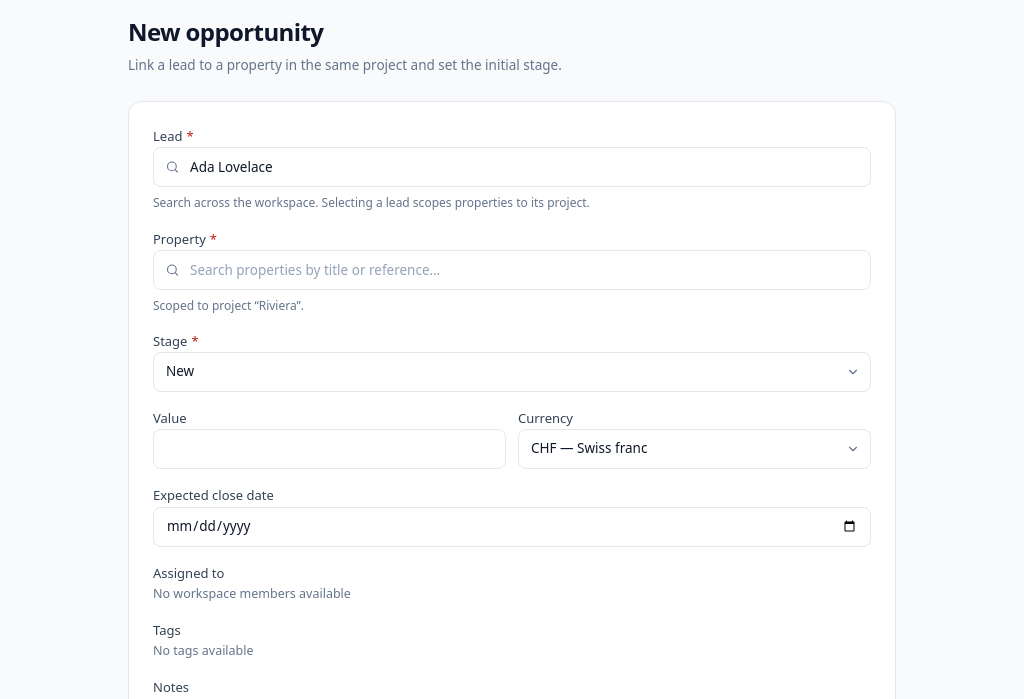
Test: OpportunityFormPage › hydrates locked lead context and scopes property search to the same project
Expected: the dropdown showing "Ada Lovelace" is shown, x1=153 y1=147 x2=871 y2=187
Click the dropdown labelled "Property": click(512, 270) x1=153 y1=250 x2=871 y2=290
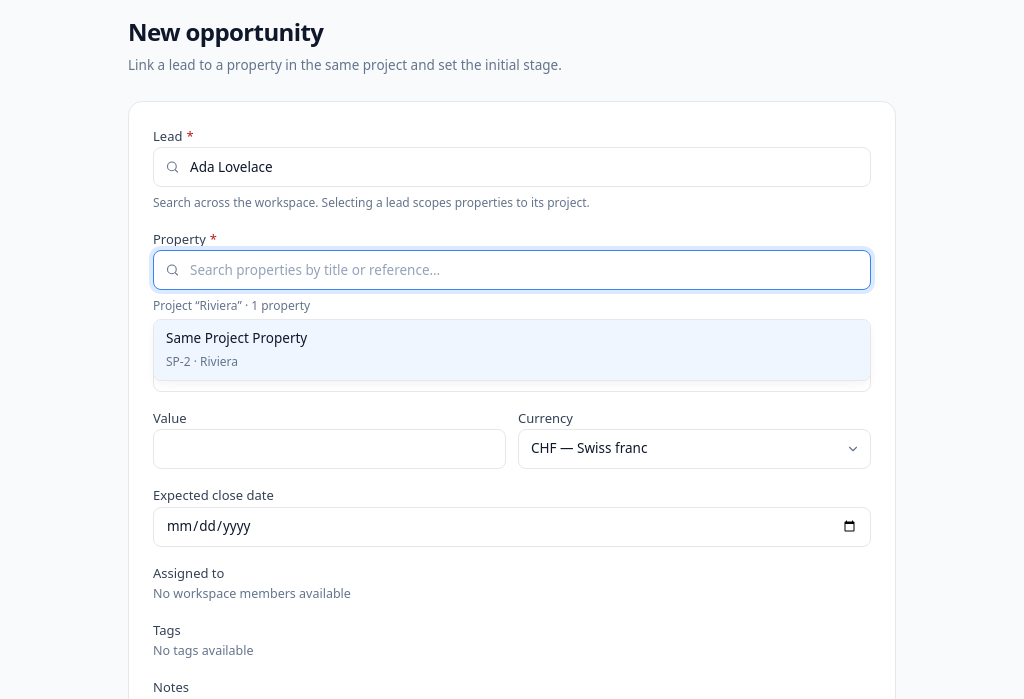
Expected: the text "Project “Riviera” · 1 property" is shown, x1=153 y1=297 x2=310 y2=314
Expected: the option "Same Project Property SP-2 · Riviera" is shown, x1=154 y1=320 x2=870 y2=380
